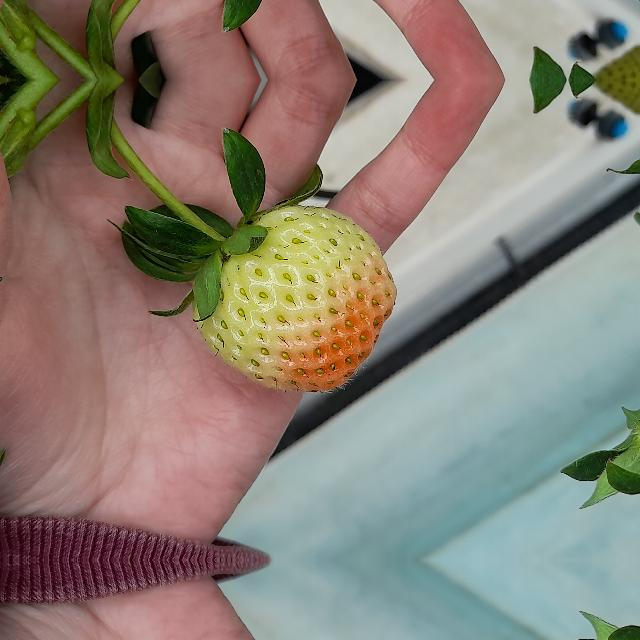Health_50: (192, 204, 396, 392)
